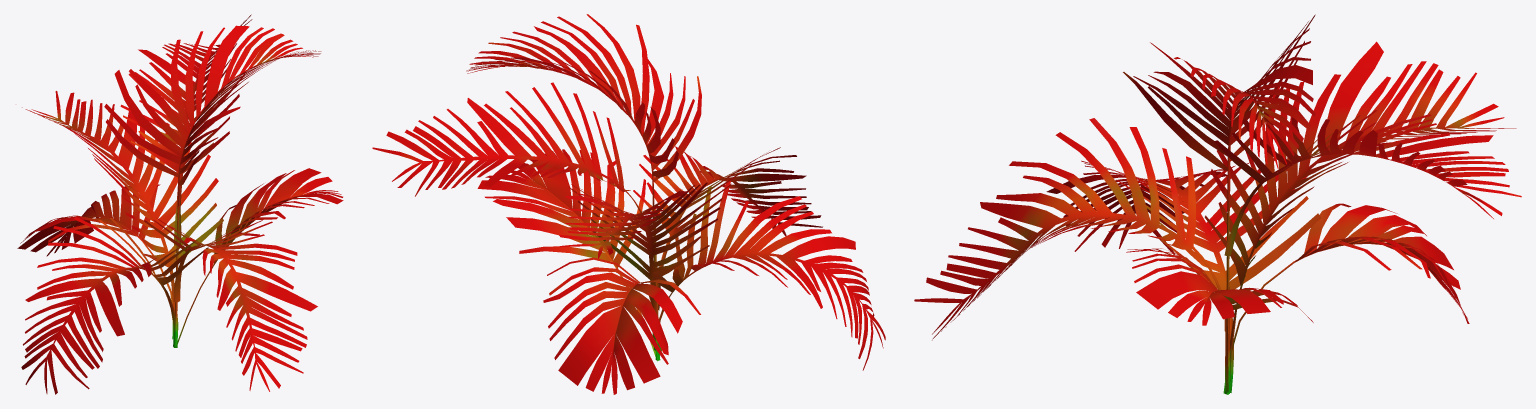
The model's file is PlantPalm05.fbx.
The picture shows the model from 3 angles, left to right: view 1: azimuth 30°, elevation 25°; view 2: azimuth 150°, elevation 25°; view 3: azimuth 270°, elevation 25°; orthographic projection. The views are drawn at different scales.
Visible parts, largest first — view 1: _18f6_Var1_LOD0; view 2: _18f6_Var1_LOD0; view 3: _18f6_Var1_LOD0.
Boxes of the visible parts, x1,y1,x2,y2 form: _18f6_Var1_LOD0: [17, 14, 343, 394]; _18f6_Var1_LOD0: [372, 14, 885, 394]; _18f6_Var1_LOD0: [914, 14, 1521, 394].
Size of the model in its own units: 178 by 142 by 199.
